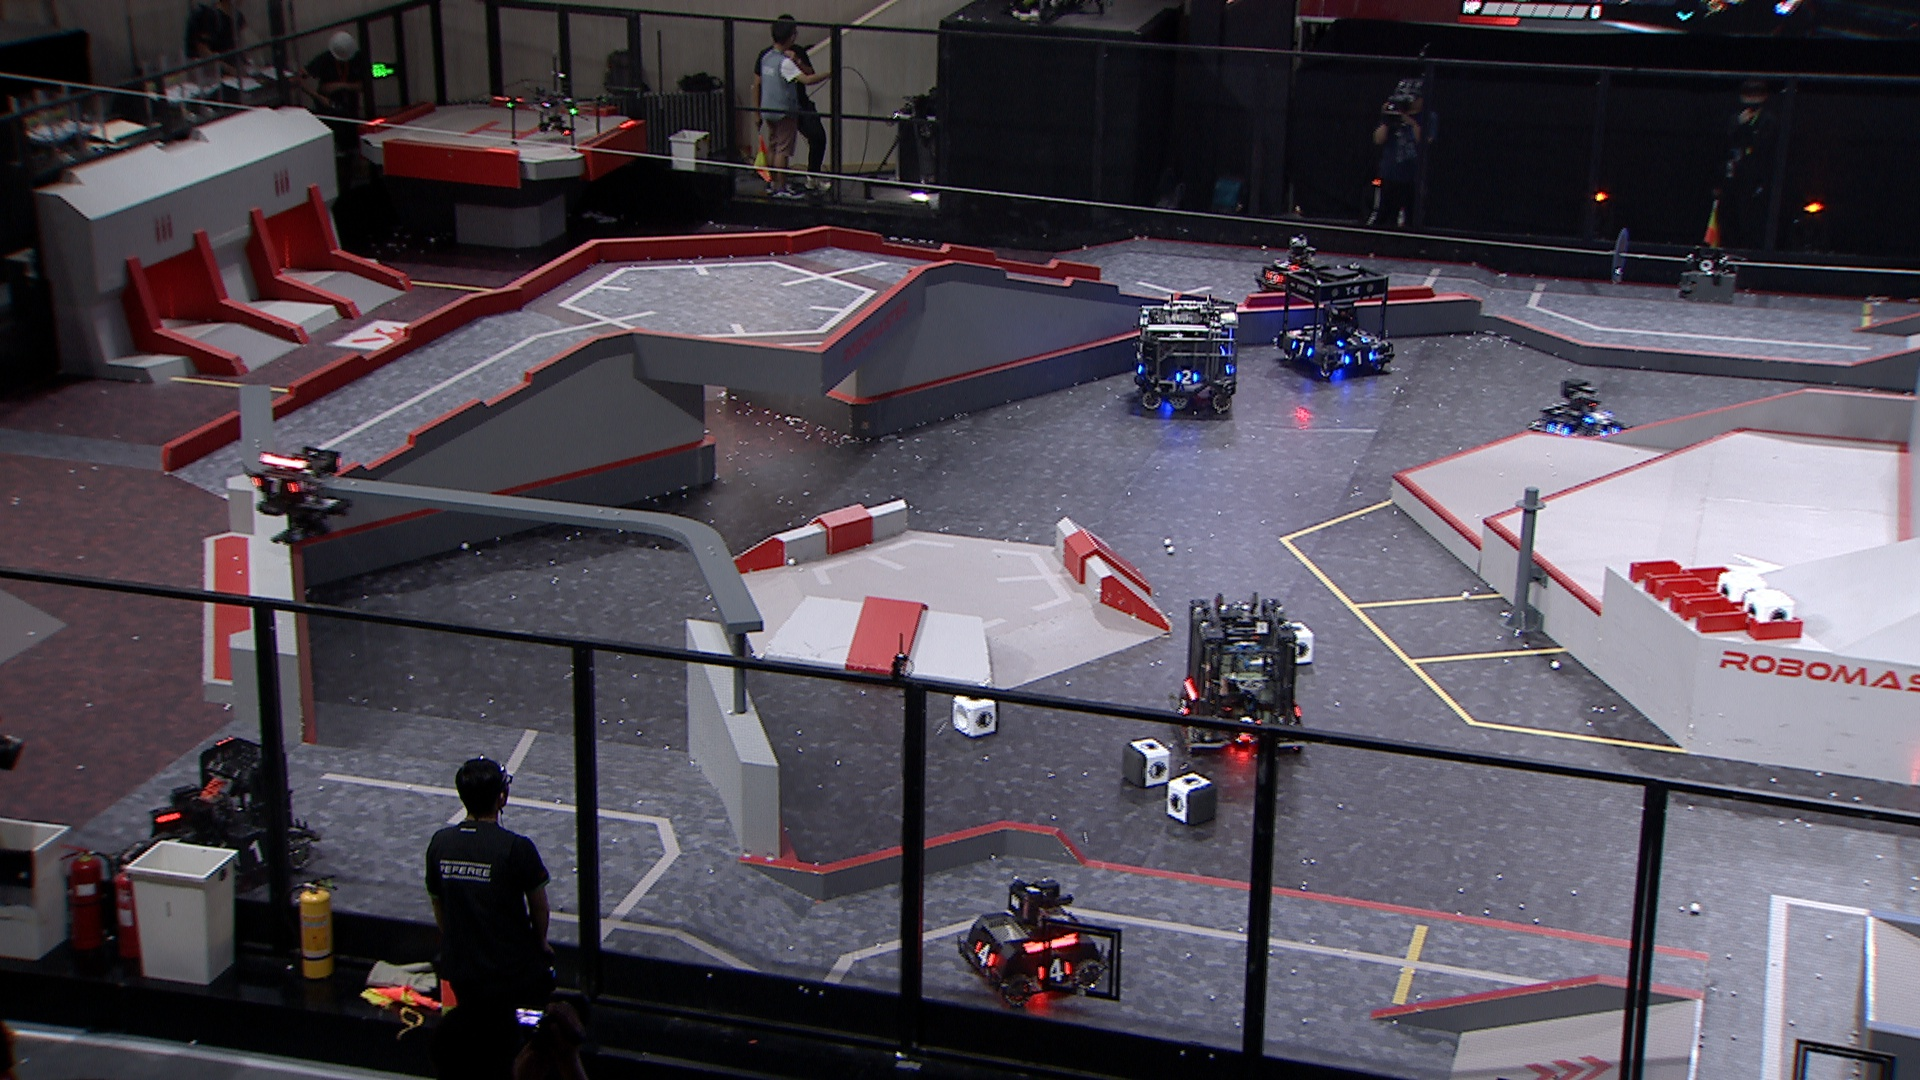armor: (252, 471, 299, 498), (1036, 955, 1072, 982), (233, 843, 266, 868), (1233, 717, 1265, 741), (972, 942, 998, 968), (1290, 339, 1315, 361), (1342, 351, 1375, 367), (1582, 410, 1615, 425), (1544, 419, 1571, 436), (1335, 334, 1367, 347), (1178, 368, 1201, 385), (1262, 270, 1286, 286), (1598, 425, 1623, 436), (1275, 258, 1298, 272), (1178, 695, 1193, 713)
car: (112, 737, 320, 901), (1166, 589, 1313, 757), (956, 874, 1109, 1007), (1273, 266, 1396, 384), (1135, 291, 1240, 417), (1527, 378, 1634, 455), (1253, 229, 1335, 295)
watcher: (251, 443, 356, 549)
